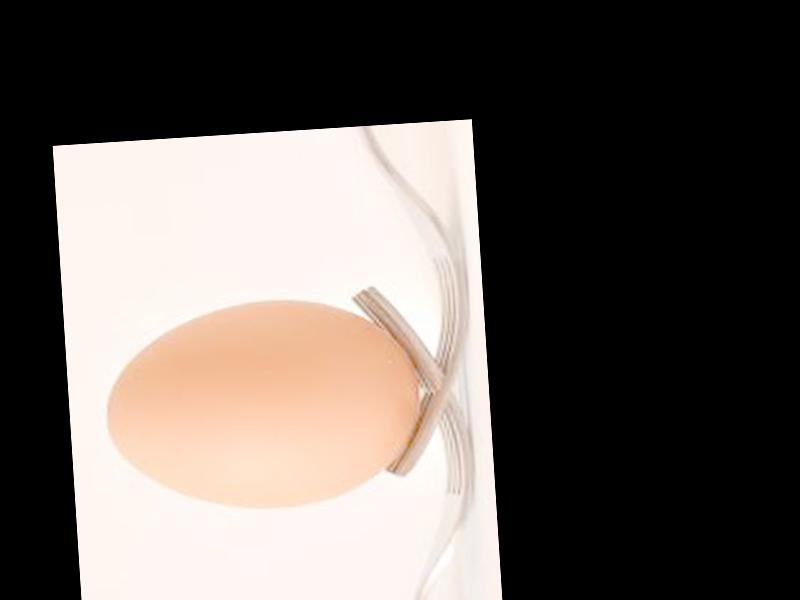Eggs: (101, 292, 425, 518)
